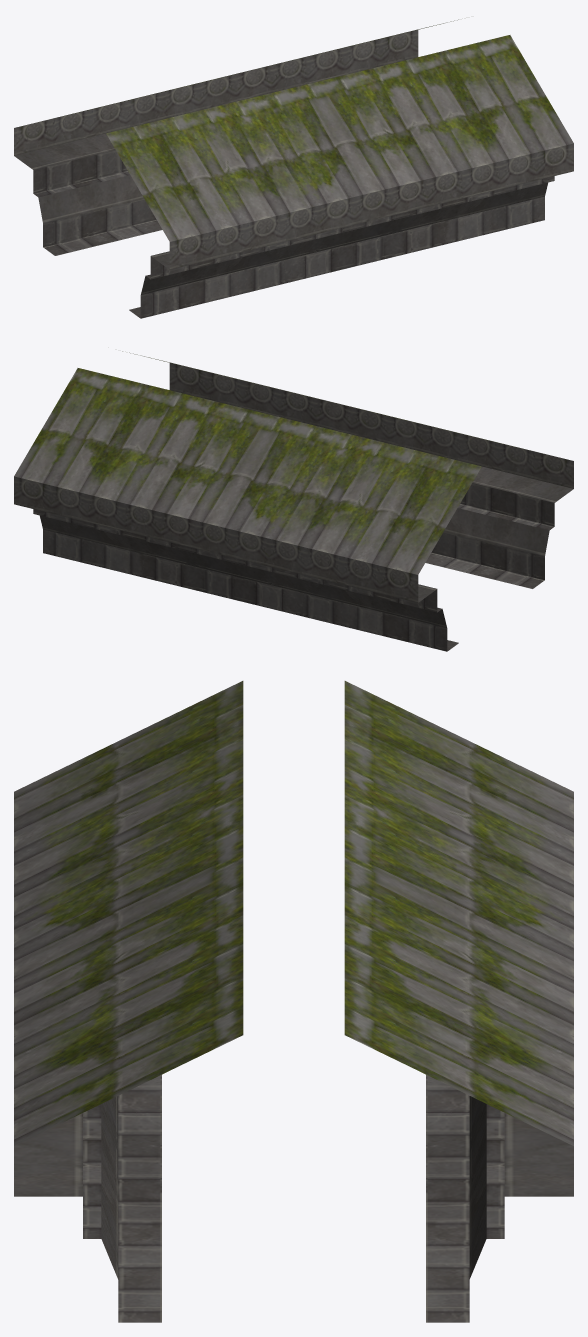
File: b_zx_qiangbi01_02_01.FBX
3 views of the same model, one above another, from view 1: azimuth 30°, elevation 25°; view 2: azimuth 150°, elevation 25°; view 3: azimuth 270°, elevation 25° (orthographic). The views are drawn at different scales.
Visible parts, largest first — view 1: b_zx_qiangbi01_02_01; view 2: b_zx_qiangbi01_02_01; view 3: b_zx_qiangbi01_02_01.
Boxes of the visible parts, left/top/right/bottom form: b_zx_qiangbi01_02_01: left=14, top=19, right=573, bottom=318; b_zx_qiangbi01_02_01: left=14, top=351, right=573, bottom=651; b_zx_qiangbi01_02_01: left=14, top=681, right=573, bottom=1322.
Size of the model in its own units: 3.95 by 1.49 by 2.64.
